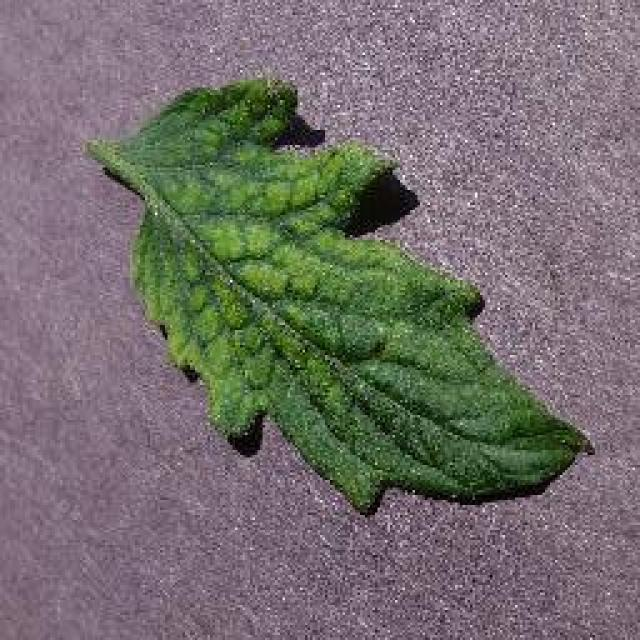Tomato spider mites leaf: (100, 79, 590, 516)
